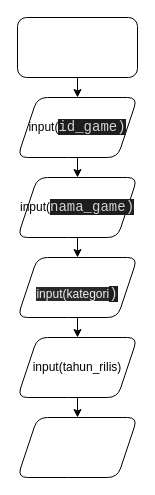
The diagram is 155 pixels wide and 495 high, and some of its shapes have lost their labels. The box of each missing label's shape, as (x1, y1, x2, y2) in pixels:
input(harga): (16, 416, 138, 478)
ubah_game(game): (16, 16, 138, 78)
